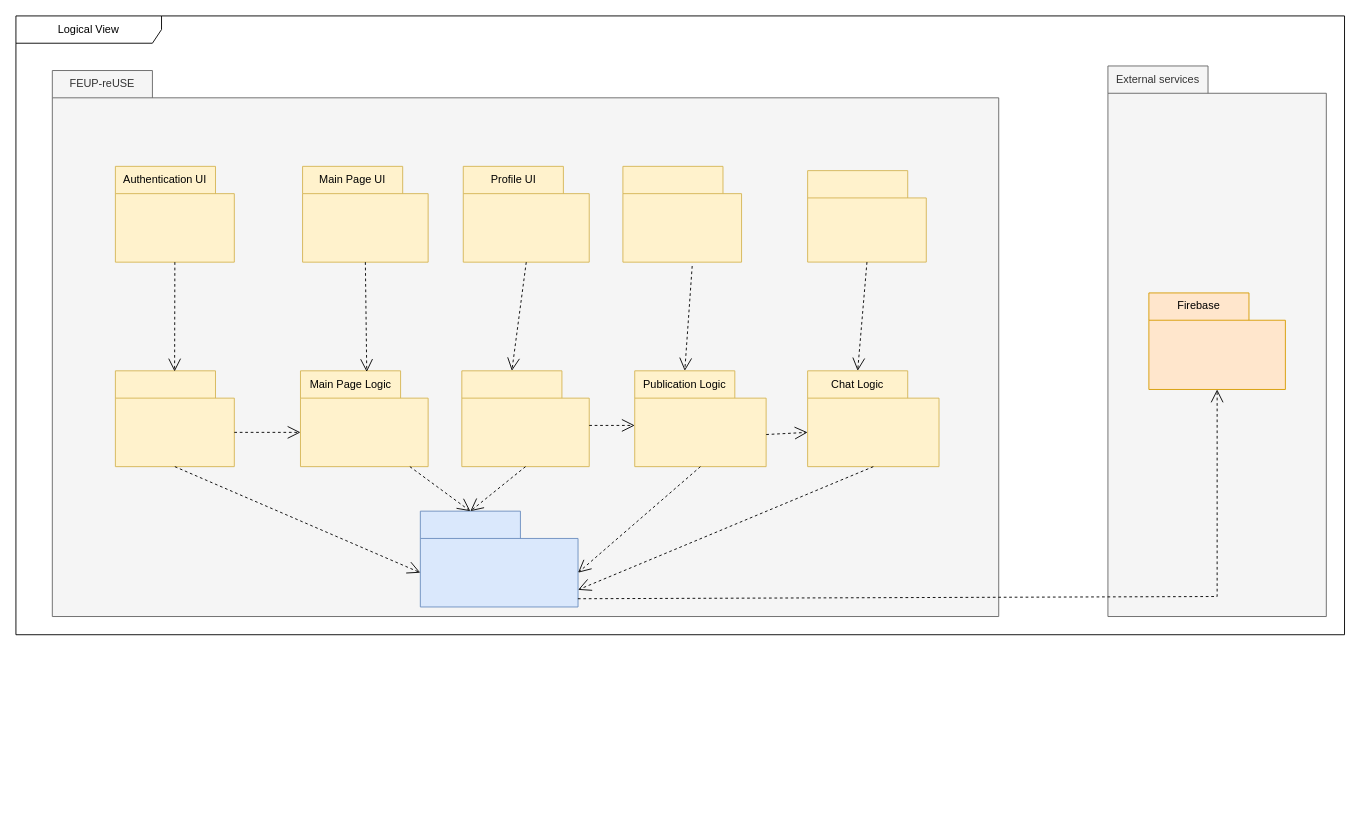
This 1360x823 diagram has some shape labels left out. Here are the shapes that lost their labels. From the top down, the centre of each, then its label:
the point at 682,213: Publication UI
the point at 866,216: Chat UI
the point at 174,418: Authentication Logic
the point at 525,418: Profile Logic
the point at 498,558: Database Schema
